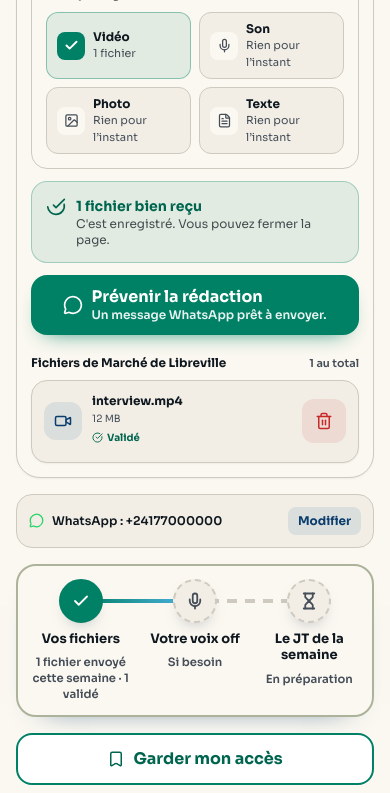
Test: supprimer un fichier › dit quoi, d’où, et ce que cela coûte, avec de grands boutons
This screenshot has width=390, height=793.
(page scrolled)
Click the button named "Supprimer le fichier interview.mp4" at (324,421), box x1=302 y1=399 x2=346 y2=443
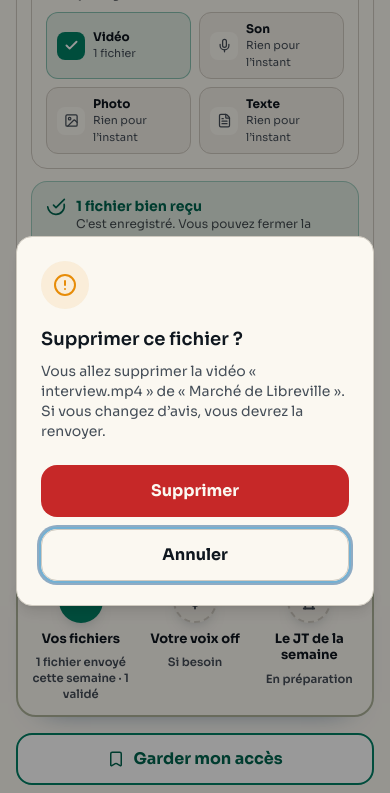
Now the dialog shows "Vous allez supprimer la vidéo « interview.mp4 » de « Marché de Libreville ». Si vous changez d’avis, vous devrez la renvoyer.", box x1=41 y1=362 x2=345 y2=440
